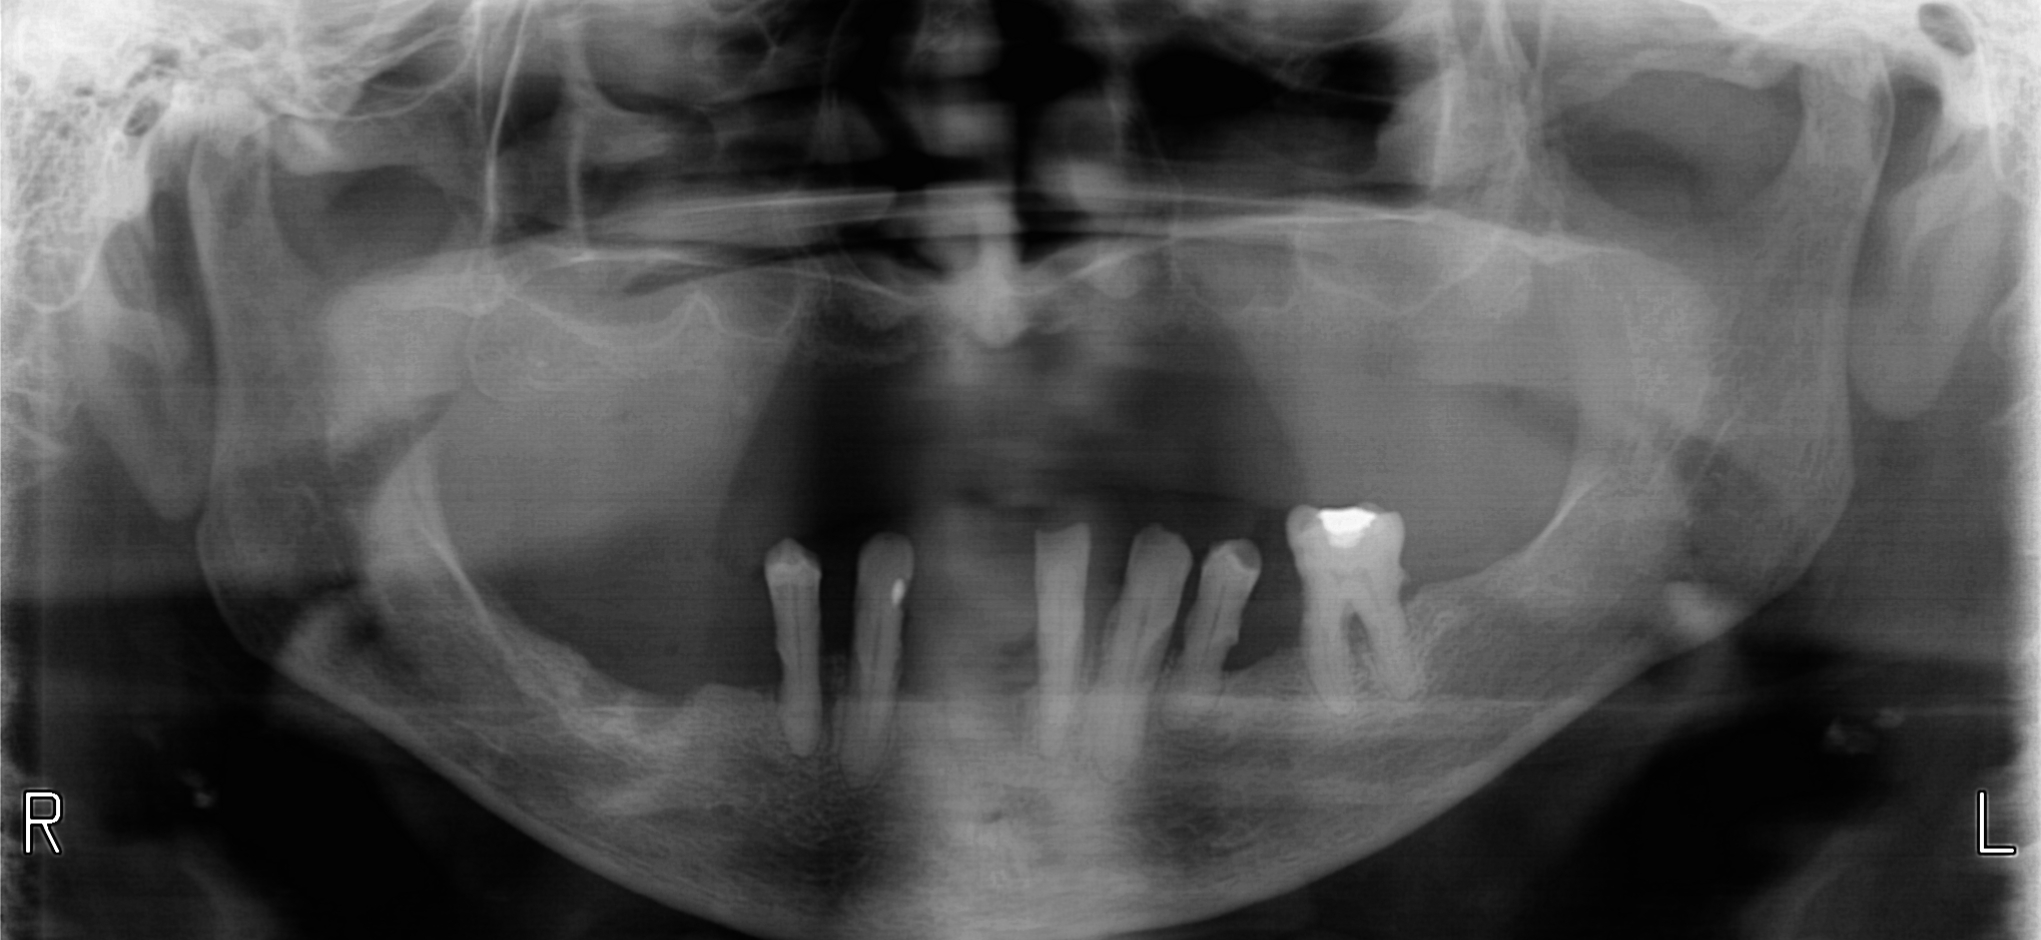cavity: (1139, 622, 1168, 677), (845, 651, 855, 700), (776, 651, 784, 702), (1177, 635, 1187, 656), (899, 605, 902, 607)
